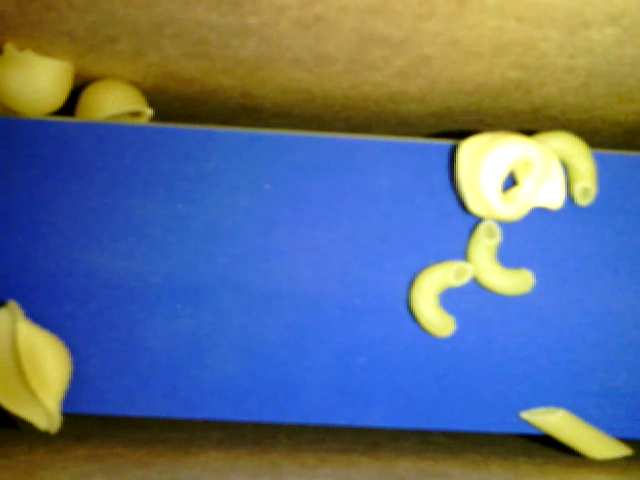elbow: (466, 222, 536, 296), (409, 260, 473, 336), (535, 130, 597, 205)
penne: (520, 407, 631, 461)
shell: (1, 300, 72, 432), (1, 41, 74, 116), (76, 80, 153, 122)
tortellini: (455, 131, 565, 220)
